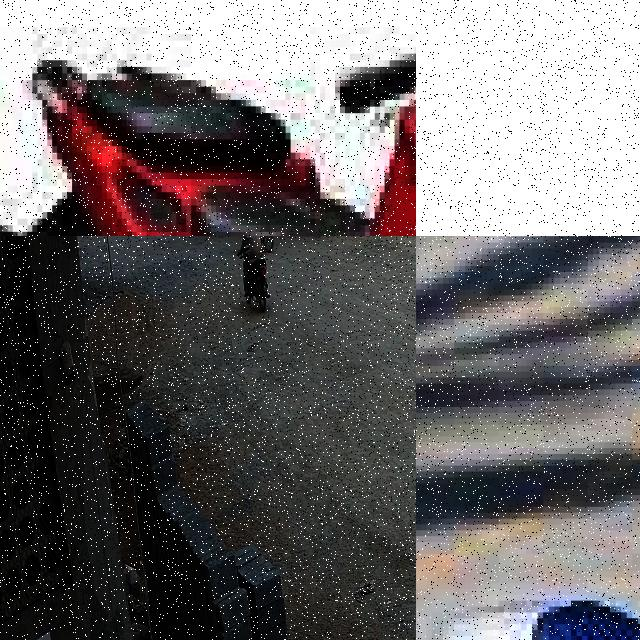bike: (0, 0, 416, 236), (416, 401, 640, 640), (416, 62, 640, 236), (251, 258, 271, 316), (261, 236, 274, 252)
